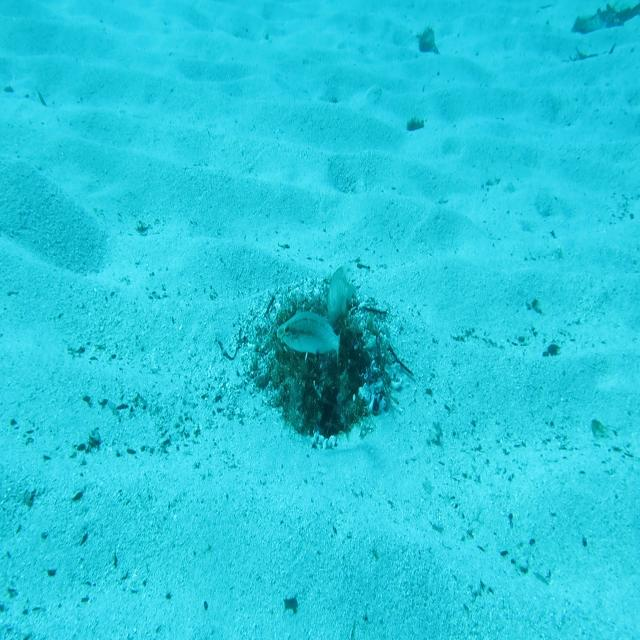NIP_CORE: (324, 264, 358, 334)
core_nest: (299, 307, 345, 352)
female: (275, 306, 342, 371)
nest: (234, 275, 404, 453)
vegetation: (569, 2, 640, 39), (416, 25, 442, 56), (402, 114, 427, 132), (282, 595, 300, 615)
